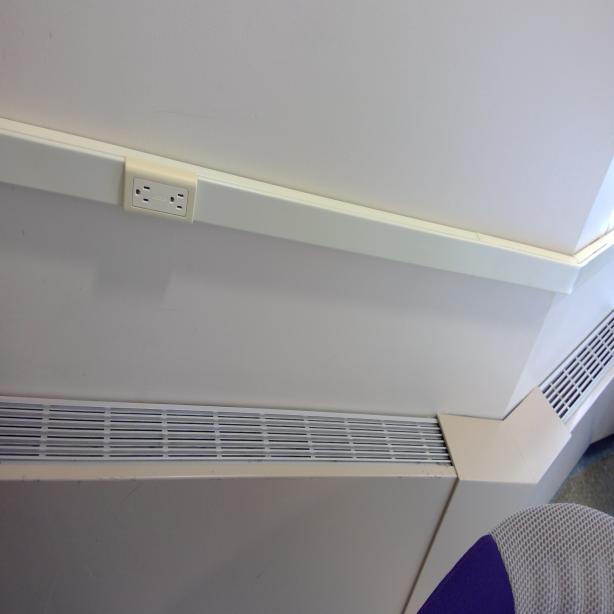typeb: (133, 179, 156, 213), (166, 187, 188, 219)
